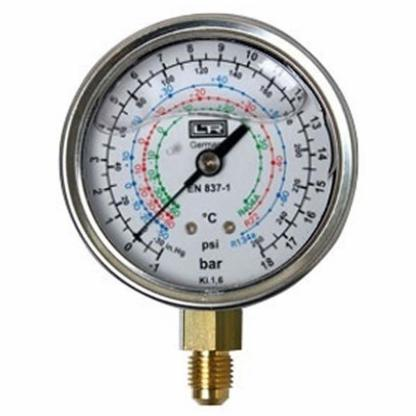needle: (134, 169, 204, 238)
